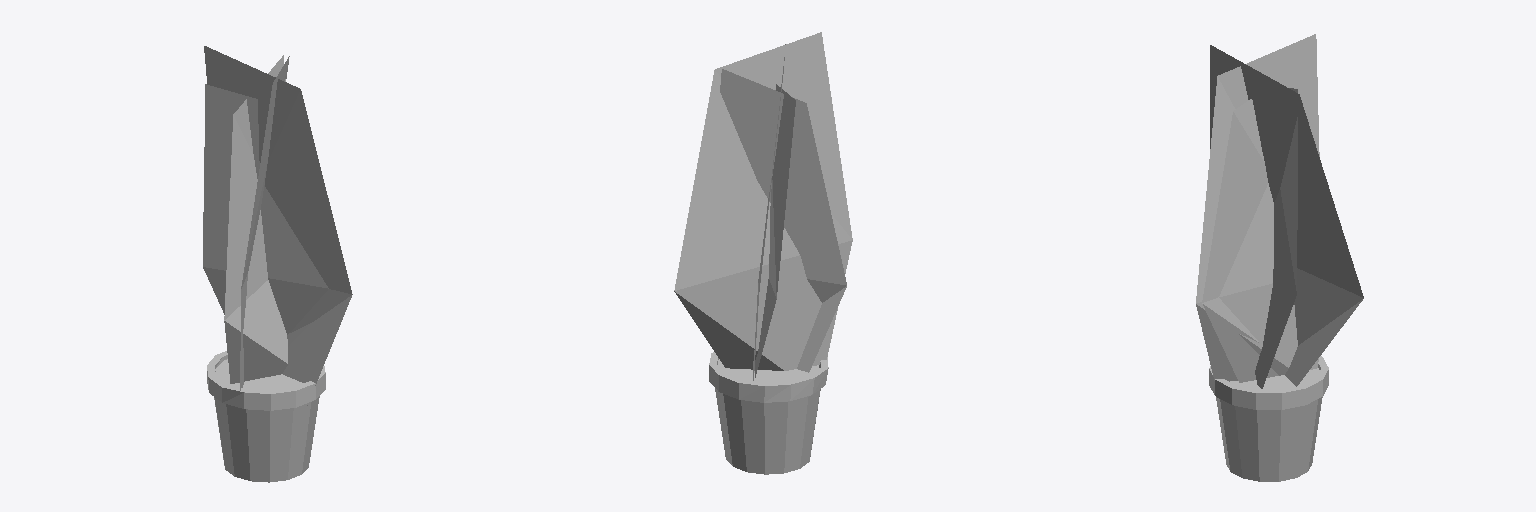
File: plant_001.obj
The picture shows the model from 3 angles: view 1: azimuth 30°, elevation 25°; view 2: azimuth 150°, elevation 25°; view 3: azimuth 270°, elevation 25°; orthographic projection.
Parts seen in each view (by area): view 1: plant.001; view 2: plant.001; view 3: plant.001.
Part boxes in pixels (x1,y1,x2,y2): plant.001: (203, 46, 352, 482); plant.001: (674, 32, 852, 474); plant.001: (1196, 34, 1363, 481).
Size of the model in its own units: 0.7871 by 2.79 by 1.03.